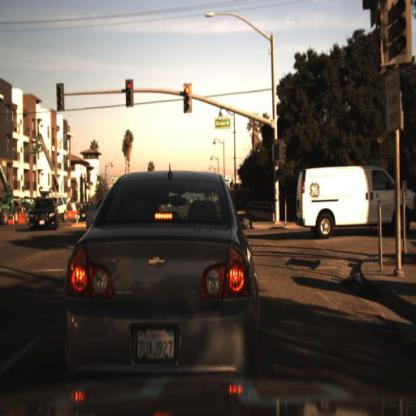car: (55, 163, 261, 407), (295, 157, 416, 244), (25, 191, 60, 238), (53, 193, 75, 228)
trafficLight: (381, 1, 416, 77), (183, 82, 193, 117), (56, 84, 66, 111)
trafficLight-Red: (125, 78, 135, 109), (274, 138, 285, 165)
